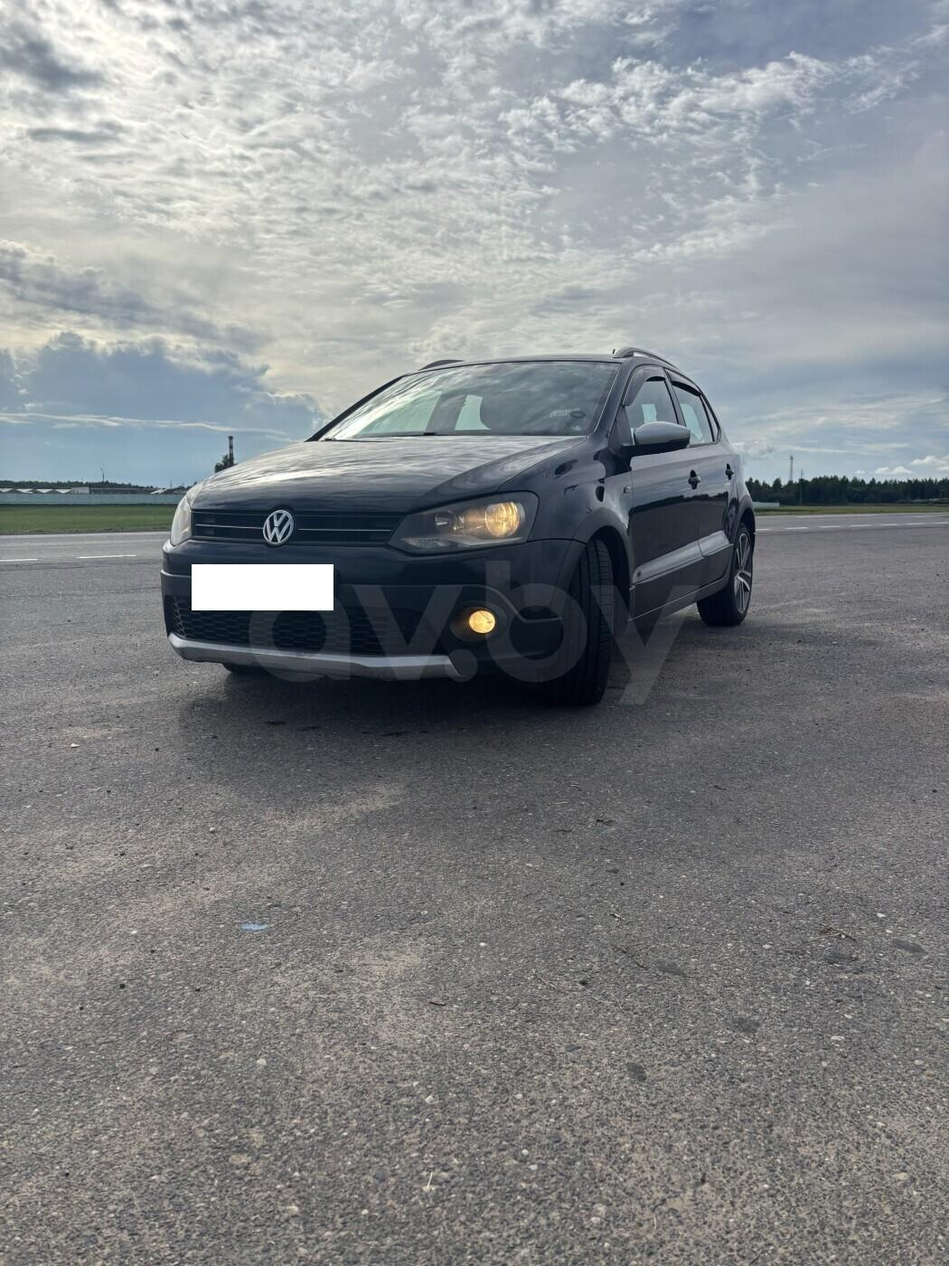Polo_2009-2015: (146, 318, 768, 745)
